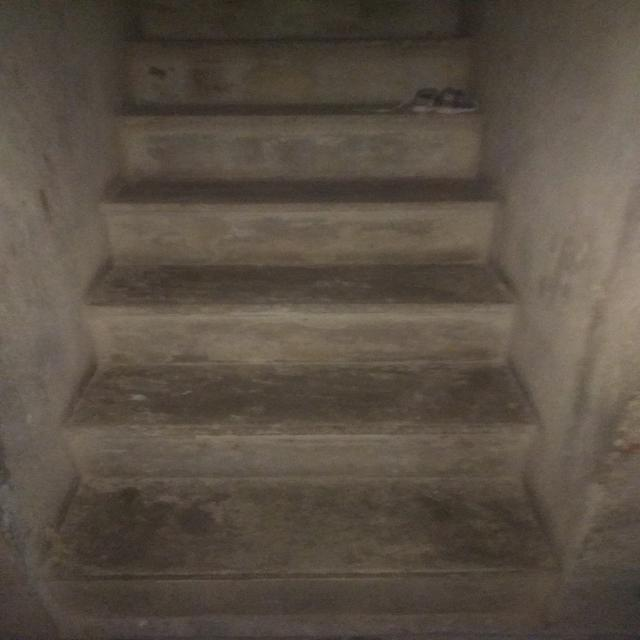Stairs: (58, 16, 558, 597)
